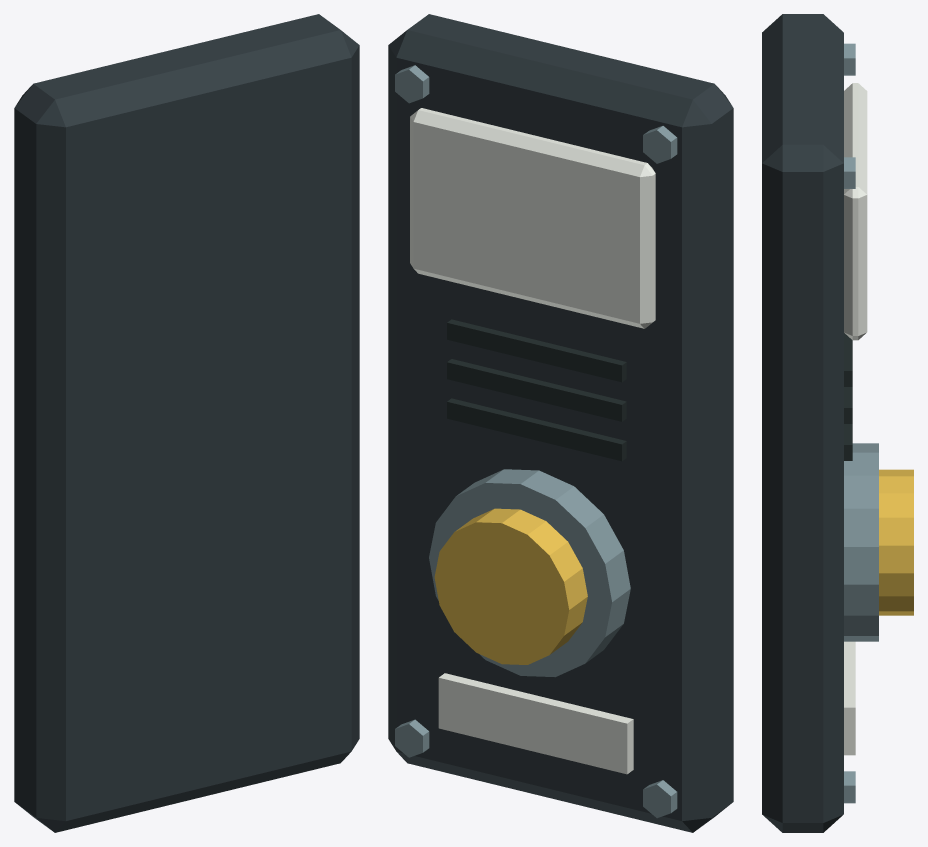
The model's file is sm_env_prop_doorbell_panel.glb.
3 views of the same model, side by side, from view 1: azimuth 30°, elevation 25°; view 2: azimuth 150°, elevation 25°; view 3: azimuth 270°, elevation 25° (orthographic). The views are drawn at different scales.
Visible parts, largest first — view 1: Plate; view 2: Plate, NumberPlate, Button, ButtonRing, NameCard, Speaker, Speaker.001, Speaker.002, Screw, Screw.002, Screw.001, Screw.003; view 3: Plate, ButtonRing, NumberPlate, Button, NameCard, Speaker, Screw.001, Screw.002, Screw.003, Speaker.001, Speaker.002.
Part boxes in pixels (x1,y1,x2,y2): Plate: [14, 14, 359, 832]; Plate: [388, 14, 733, 832]; NumberPlate: [410, 108, 655, 328]; Button: [434, 508, 587, 664]; ButtonRing: [429, 469, 630, 677]; NameCard: [438, 673, 633, 774]; Speaker: [447, 319, 626, 382]; Speaker.001: [447, 359, 626, 421]; Speaker.002: [447, 398, 626, 461]; Screw: [643, 780, 677, 818]; Screw.002: [395, 719, 429, 757]; Screw.001: [643, 126, 677, 163]; Screw.003: [395, 65, 429, 103]; Plate: [762, 14, 843, 832]; ButtonRing: [844, 443, 878, 641]; NumberPlate: [844, 83, 867, 340]; Button: [879, 469, 913, 615]; NameCard: [844, 641, 855, 755]; Speaker: [844, 333, 852, 386]; Screw.001: [844, 43, 855, 75]; Screw.002: [844, 771, 855, 803]; Screw.003: [844, 157, 855, 188]; Speaker.001: [844, 387, 852, 423]; Speaker.002: [844, 424, 852, 460].
Size of the model in its own units: 0.12 by 0.26 by 0.052.
